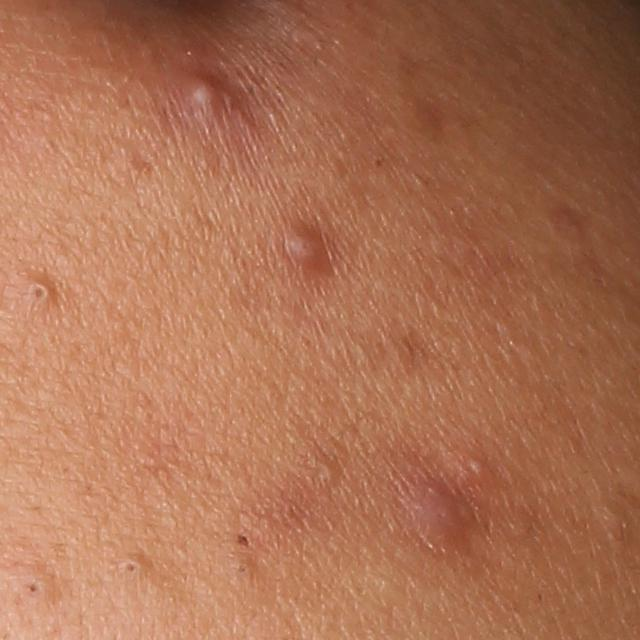comedo: (18, 275, 54, 318), (14, 571, 57, 606), (114, 553, 147, 582), (235, 530, 253, 548)
papule: (403, 476, 465, 559), (178, 77, 235, 132), (281, 231, 334, 270)
